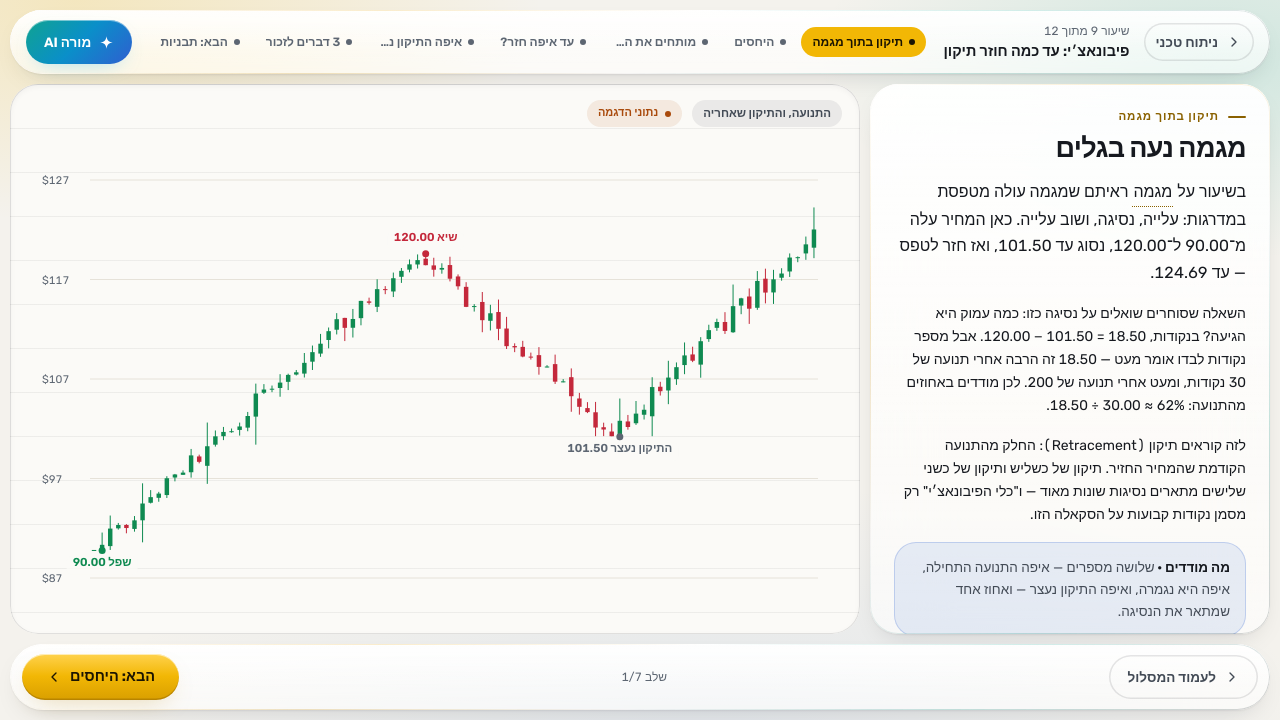
Test: lessons without a chart exercise use their own first quiz question › a wrong answer explains, allows another try, and a right one moves on
The image size is (1280, 720).
Click the button "עד איפה חזר?" at (543, 42), box [489, 27, 597, 57]
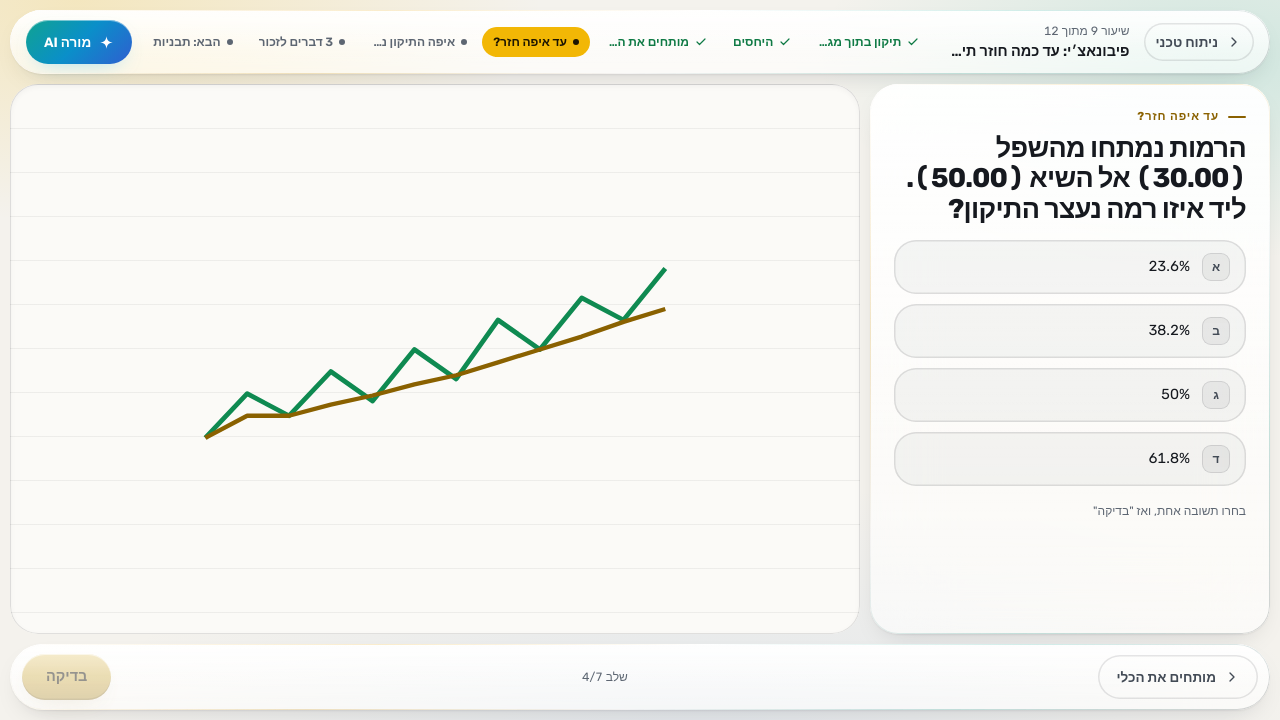
Check: the button "בדיקה" is disabled, box [22, 654, 111, 700]
Click the radio button labelled "א 23.6%" at (1169, 266), box [894, 240, 1246, 294]
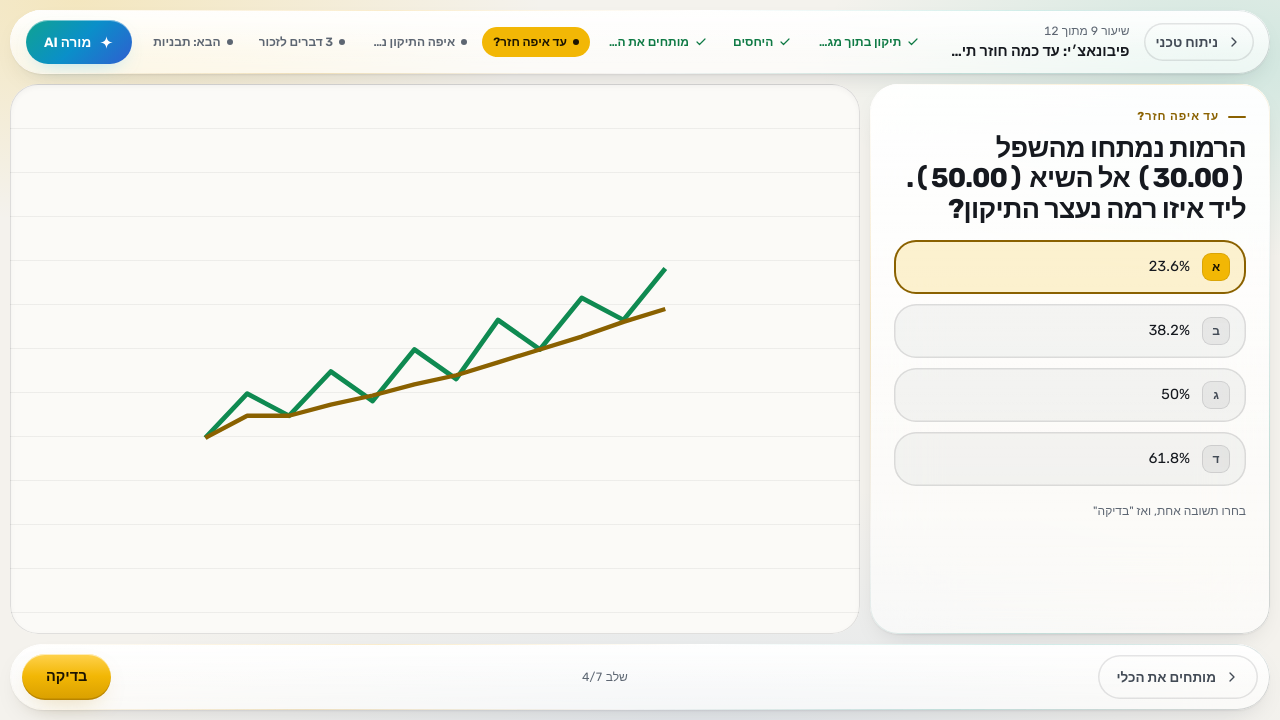
Click the button "בדיקה" at (67, 677), box [22, 654, 111, 700]
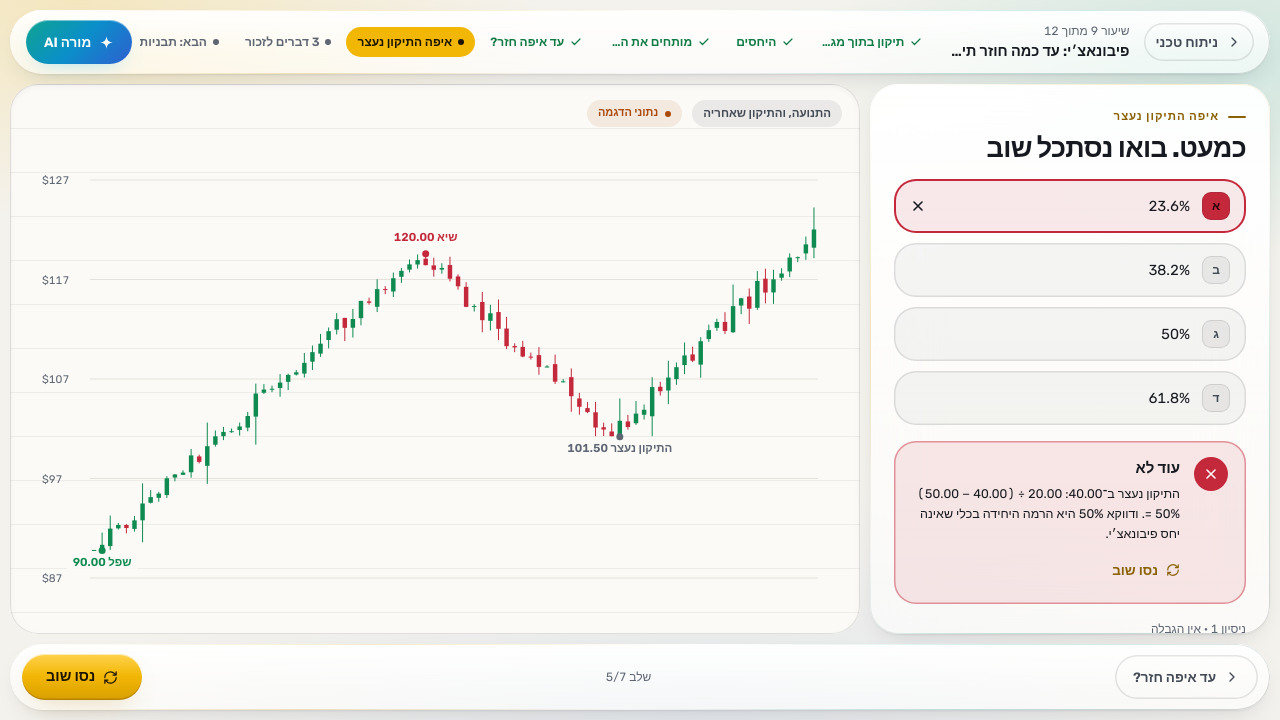
Check: the text "ניסיון 1 · אין הגבלה" is shown, box [1151, 622, 1246, 634]
Click the button "נסו שוב" in the row of "שלב 5/7" at (82, 677), box [22, 654, 142, 700]
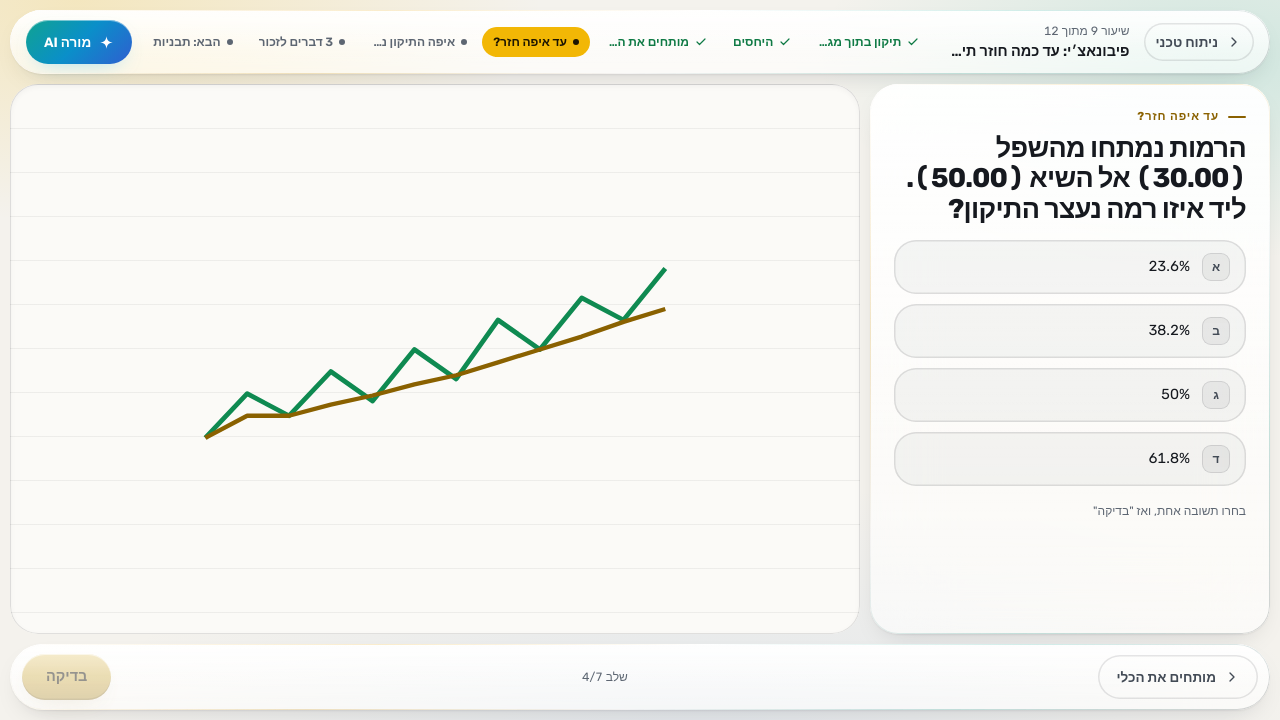
Click the radio button labelled "ג 50%" at (1216, 395), box [894, 368, 1246, 422]
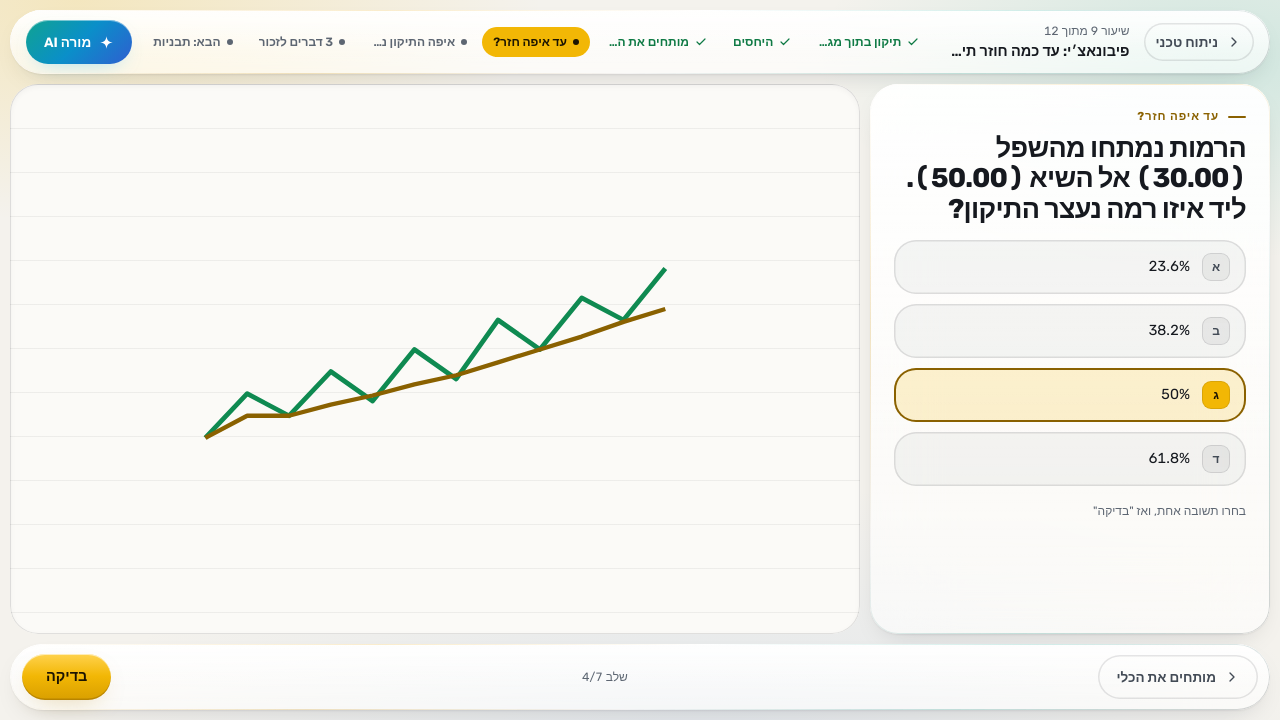
Click the button "בדיקה" at (67, 677), box [22, 654, 111, 700]
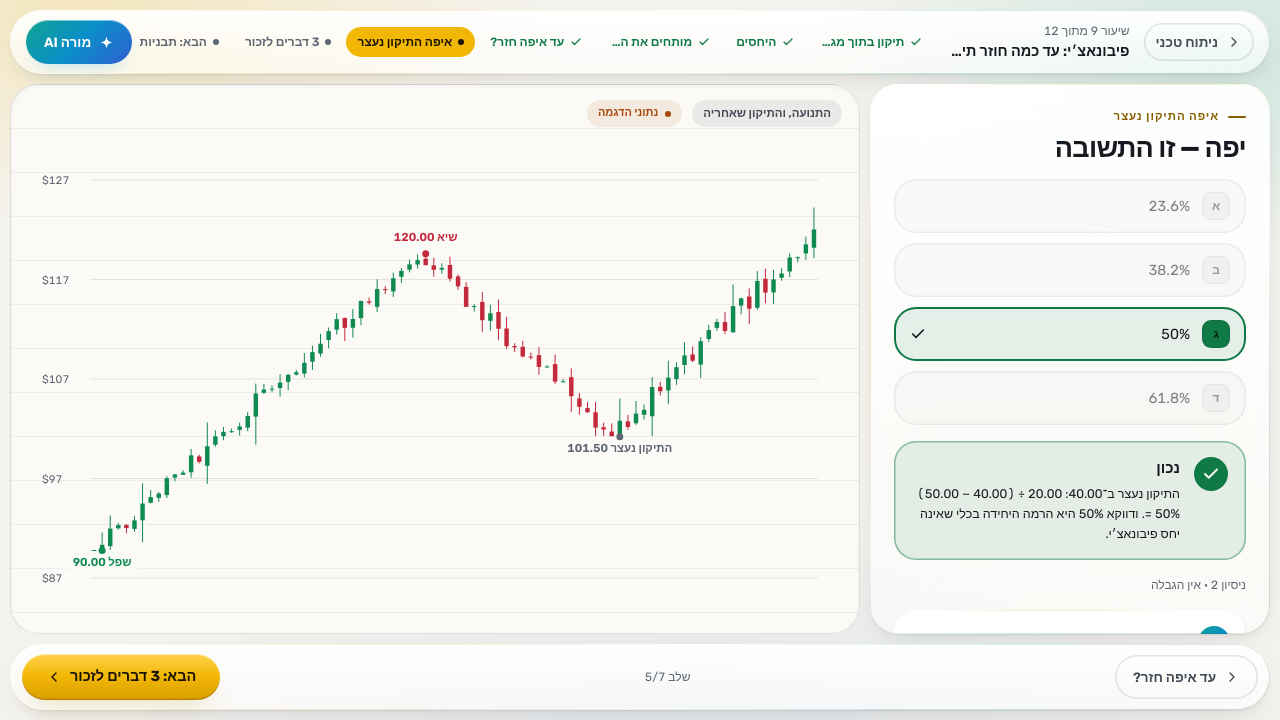
Check: the heading "יפה — זו התשובה" is shown, box [1055, 132, 1246, 164]
Check: the text "ניסיון 2 · אין הגבלה" is shown, box [1151, 578, 1246, 592]
